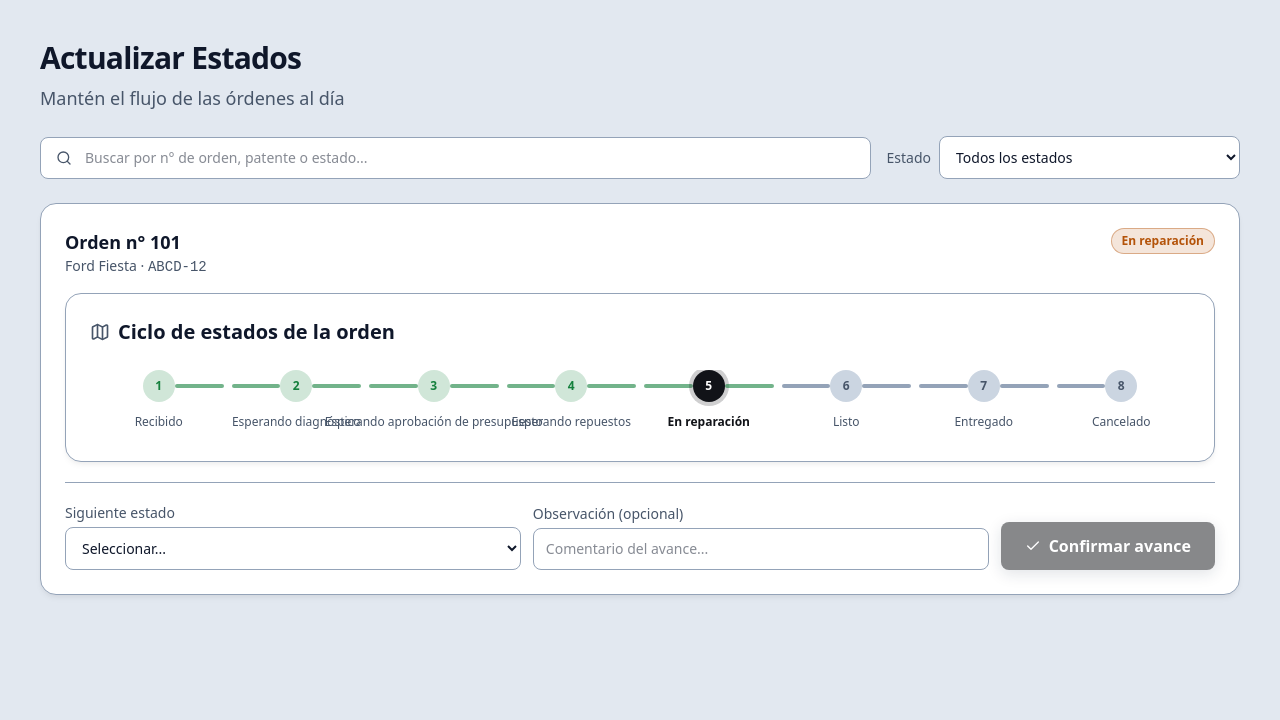
Scenario: MechanicStatusPage: actualización de estados de las órdenes › muestra el detalle del error del backend (409) en la tarjeta
Check: the heading "Orden n° 101" is shown, box 65,230 -> 181,254
Select "Listo" in the dropdown named "Siguiente estado de la orden 101" at coordinates (293, 548), box 65,527 -> 521,570
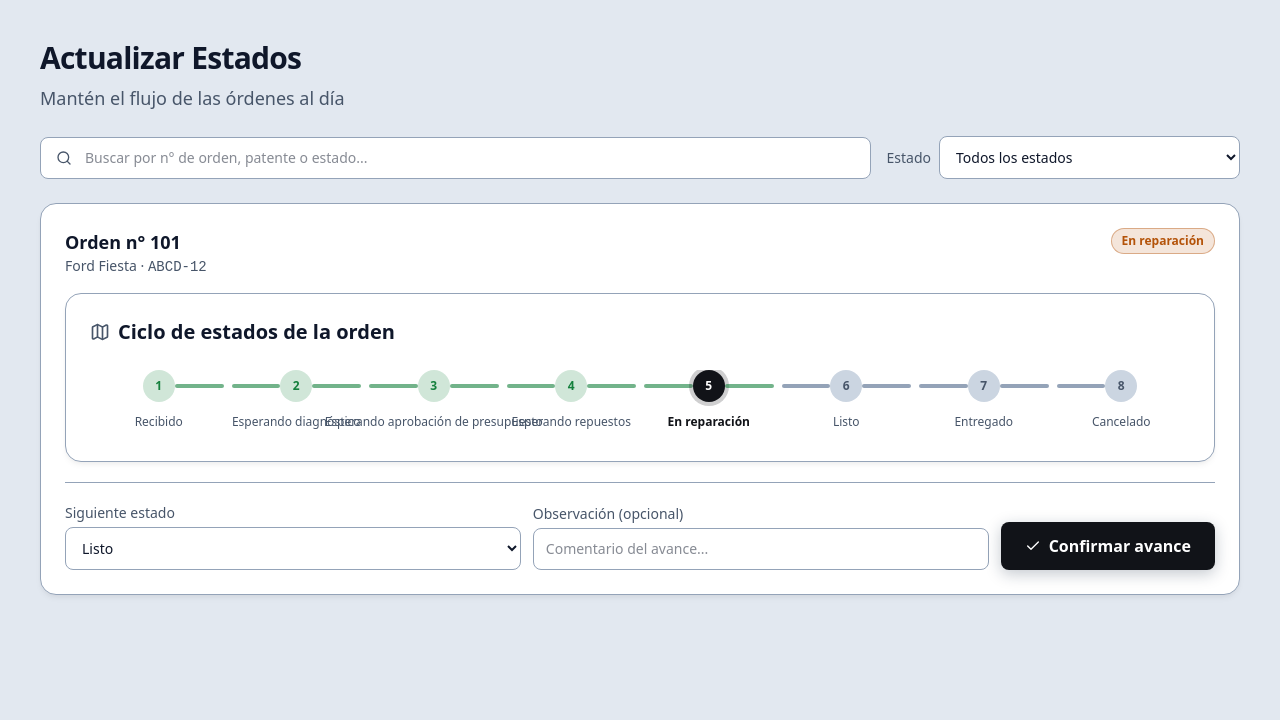
Click the button "Confirmar avance" at coordinates (1108, 546), box 1001,522 -> 1215,570
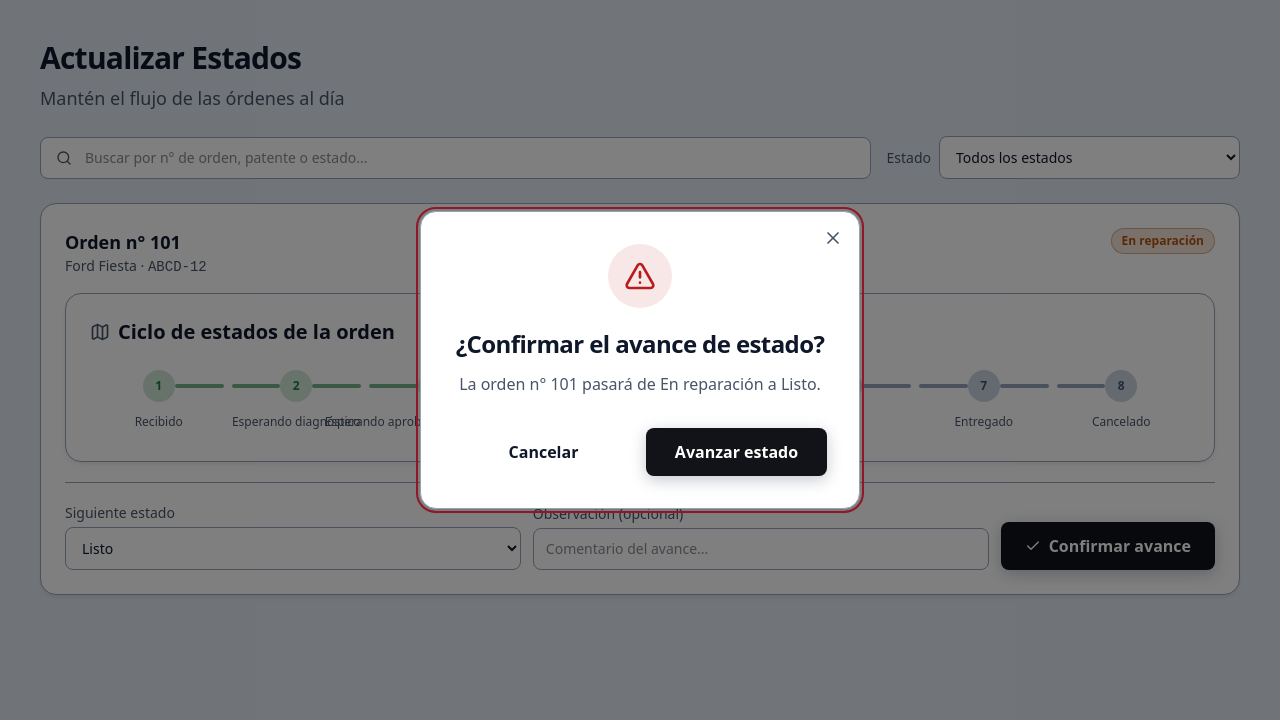
Check: the dialog is shown, box 420,211 -> 860,509
Click the button "Avanzar estado" at coordinates (736, 452), box 646,428 -> 827,476
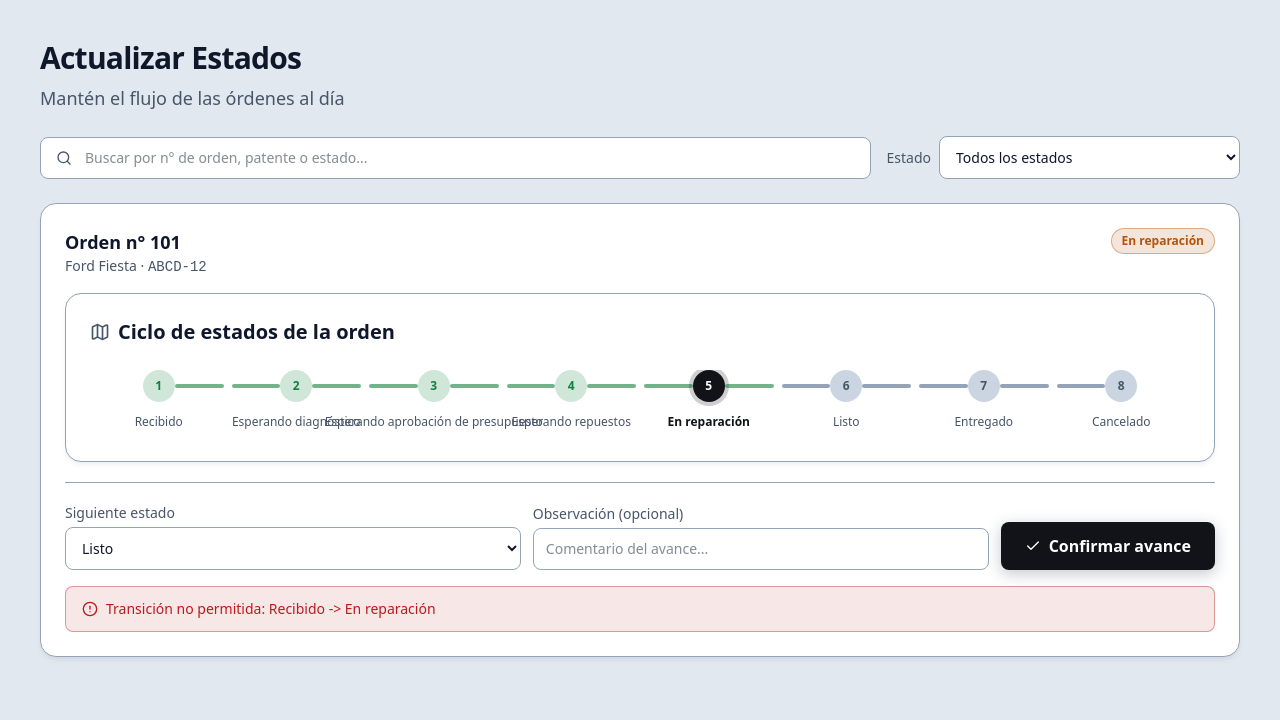
Check: the message reads "Transición no permitida: Recibido -> En reparación", box 106,599 -> 436,618
